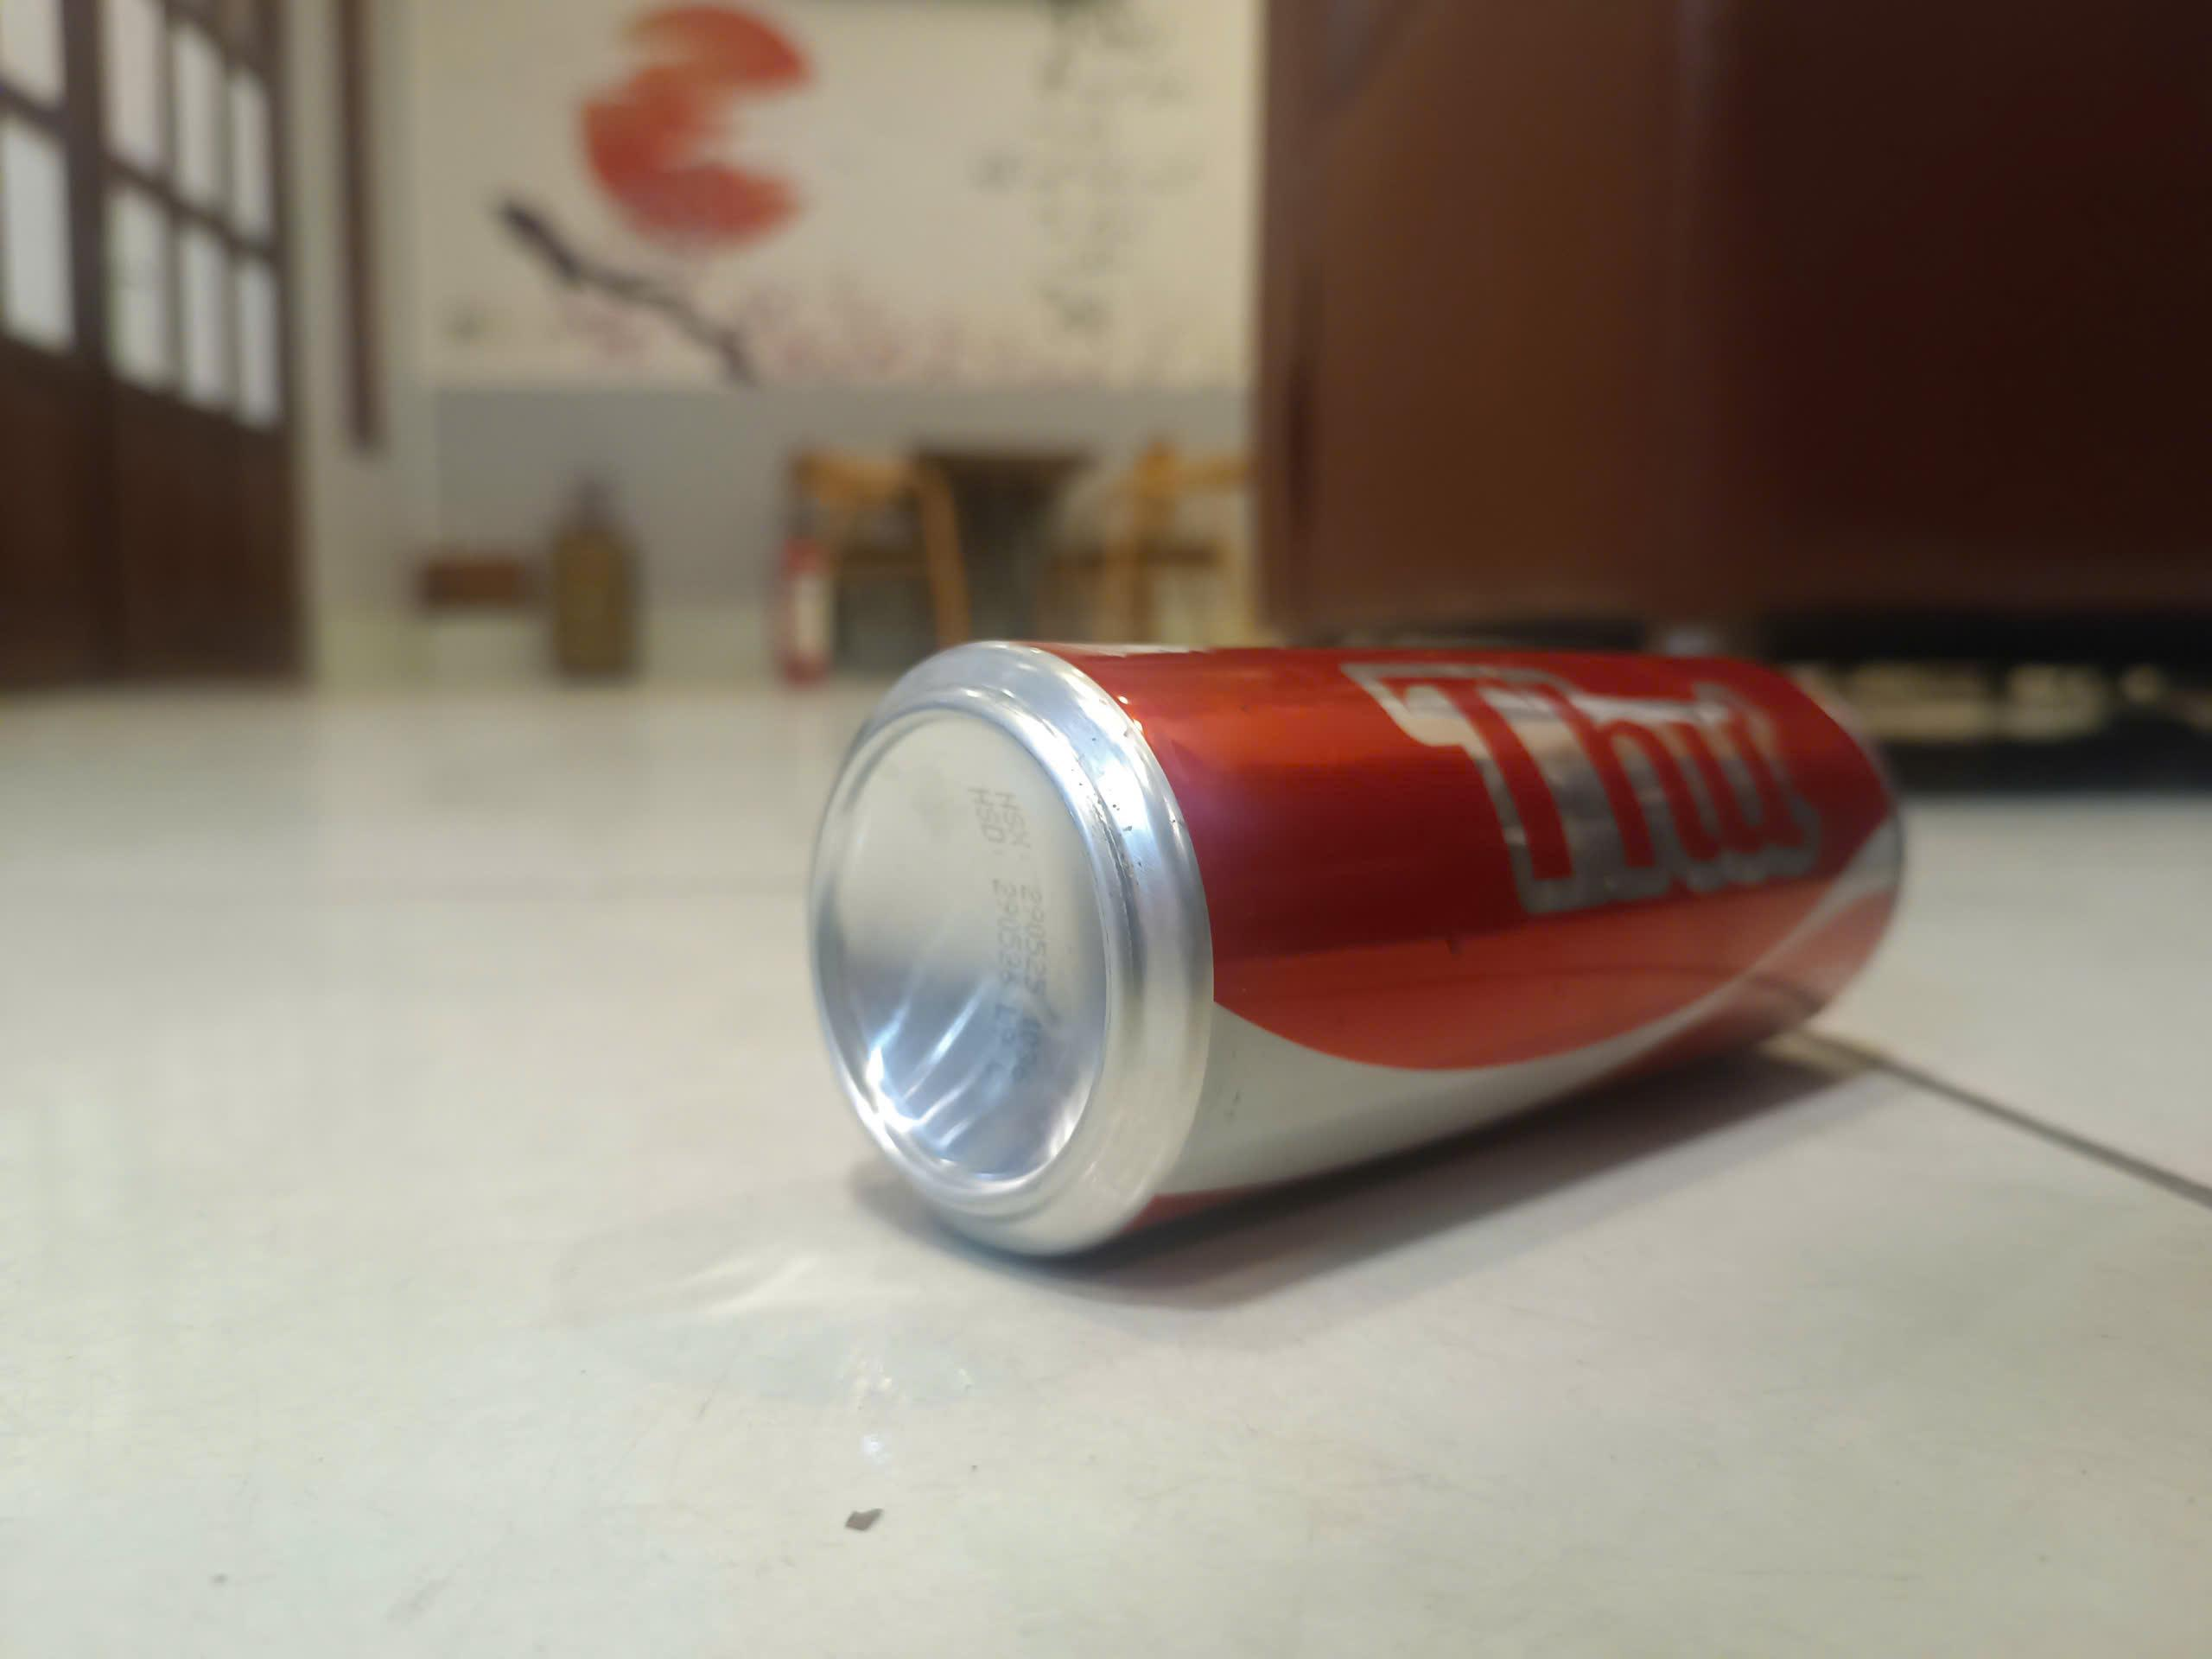Vo co: (798, 634, 1911, 1265)
